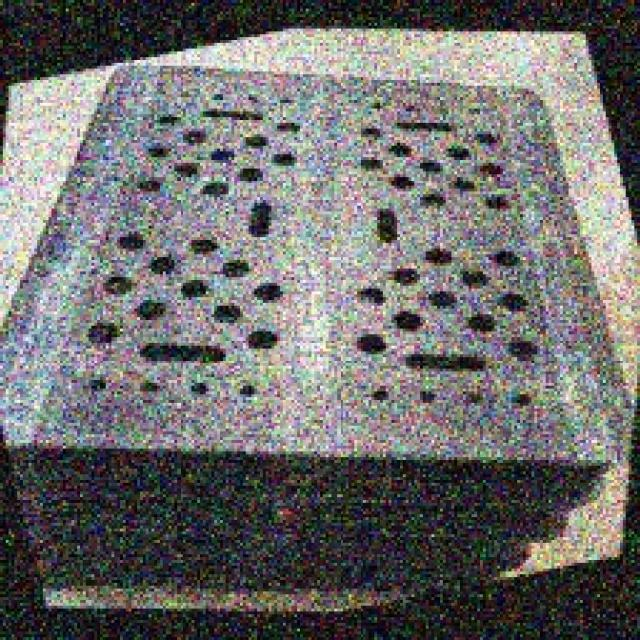igps: (0, 58, 640, 520)
